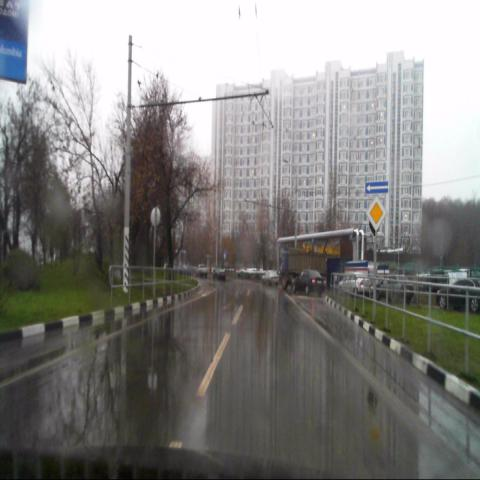5_7_2: (365, 181, 388, 193)
